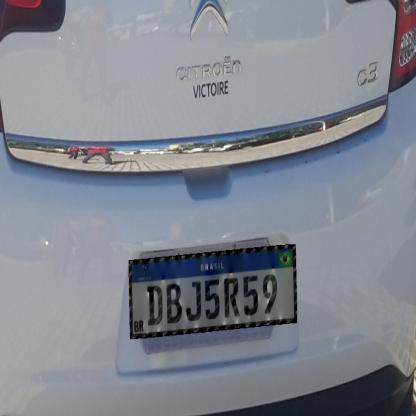PlacaM: (129, 244, 297, 339)
